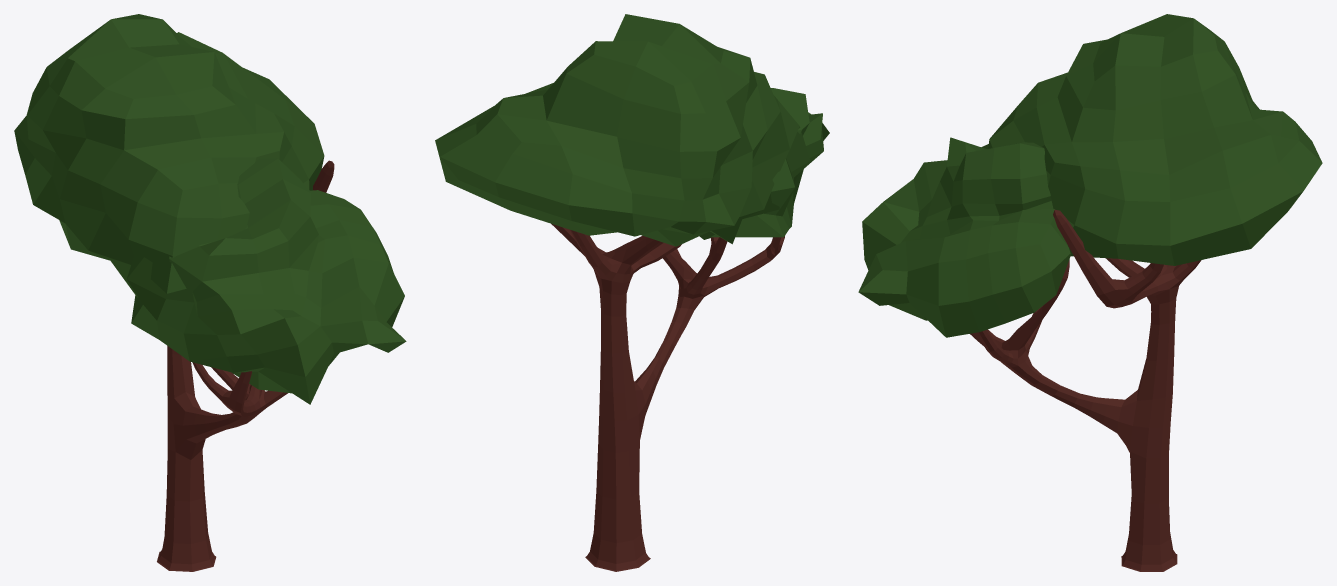
File: prop_CommonTree_2.glb
The picture shows the model from 3 angles, left to right: view 1: azimuth 30°, elevation 25°; view 2: azimuth 150°, elevation 25°; view 3: azimuth 270°, elevation 25°; orthographic projection. The views are drawn at different scales.
Visible parts, largest first — view 1: CommonTree_2; view 2: CommonTree_2; view 3: CommonTree_2.
Boxes of the visible parts, x1,y1,x2,y2 form: CommonTree_2: (14, 14, 406, 571); CommonTree_2: (435, 14, 829, 571); CommonTree_2: (858, 14, 1322, 571).
Bounding box in the file's own units: 1.66 × 3.12 × 2.54.
